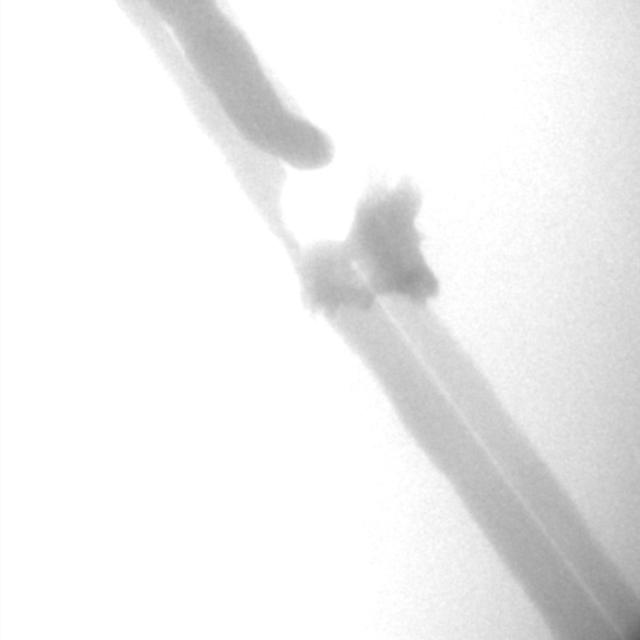broken arc: (161, 20, 621, 632)
